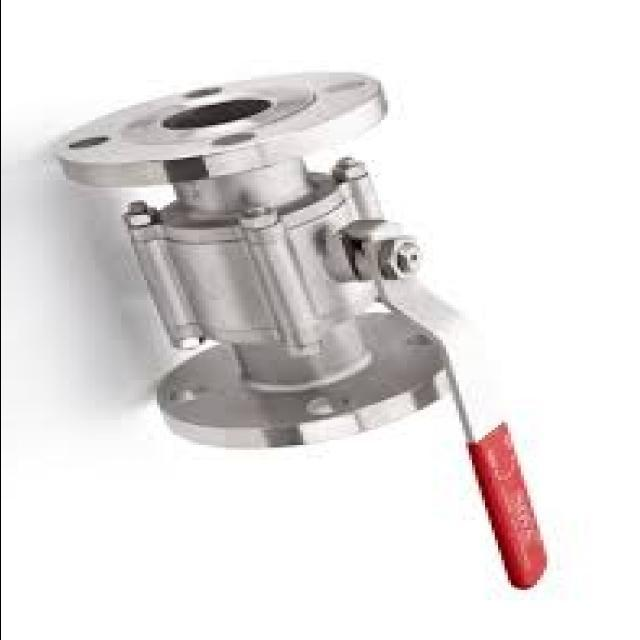opened valve: (50, 66, 550, 594)
